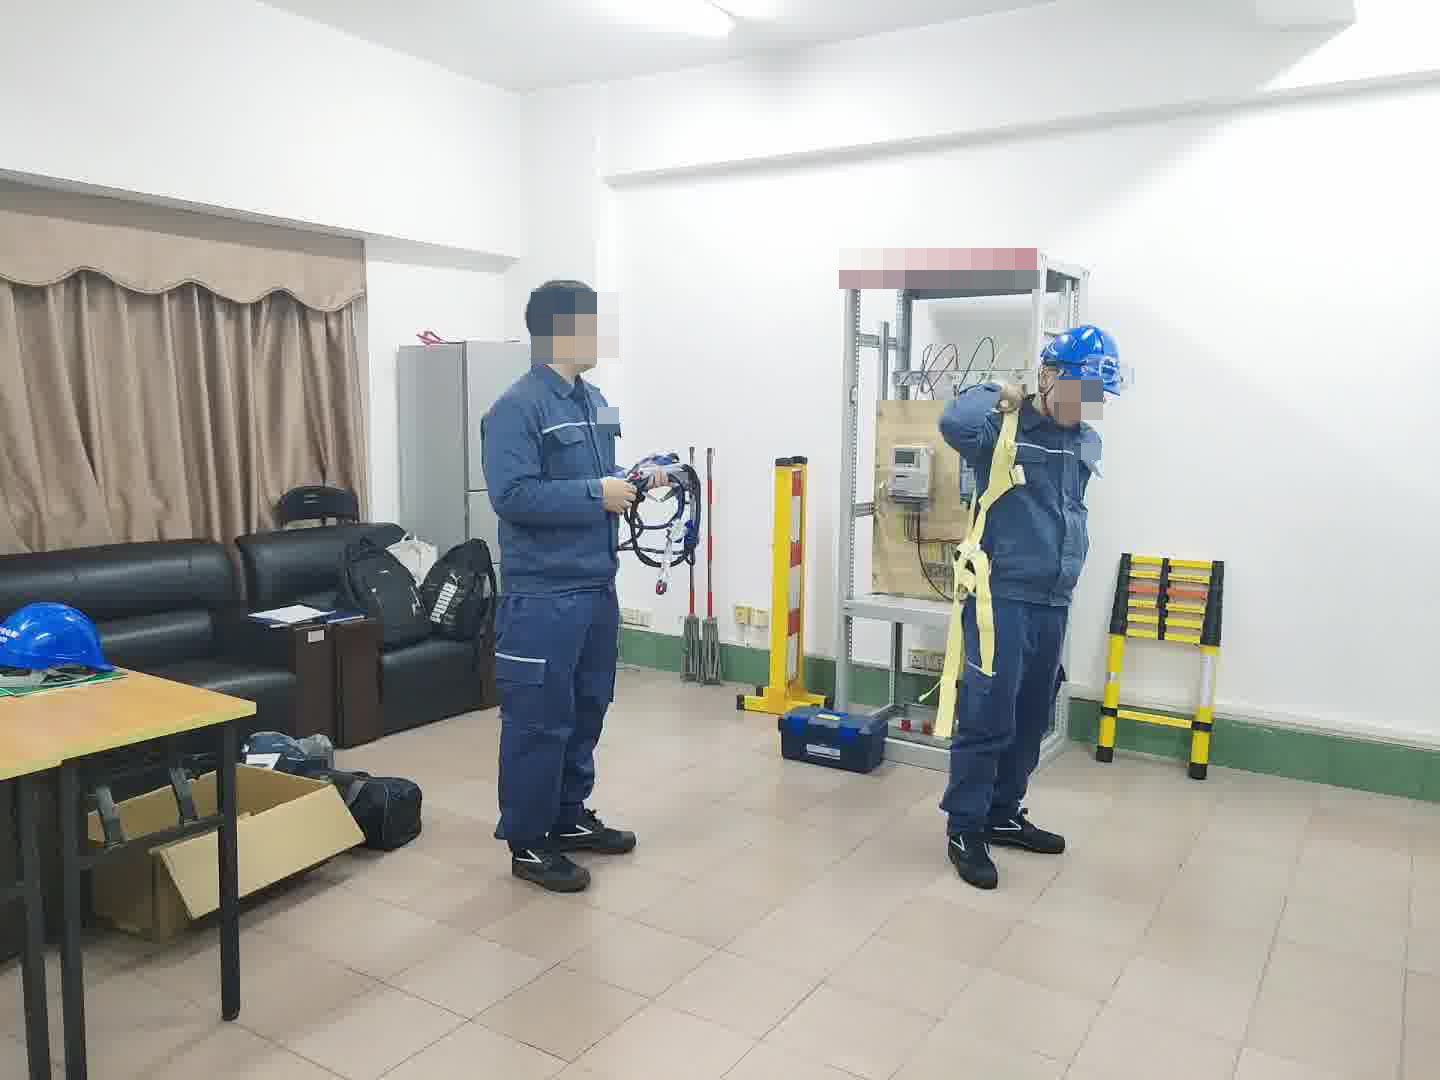downsuit: (489, 602, 623, 843), (945, 612, 1066, 825)
halt: (1035, 323, 1124, 424)
hand: (591, 476, 635, 518), (987, 382, 1031, 419)
inear: (1033, 361, 1068, 409)
noear: (545, 322, 582, 362)
person: (473, 272, 651, 883), (932, 320, 1123, 871)
unhalt: (522, 276, 610, 375)
upsuit: (476, 362, 631, 581), (946, 387, 1107, 594)
